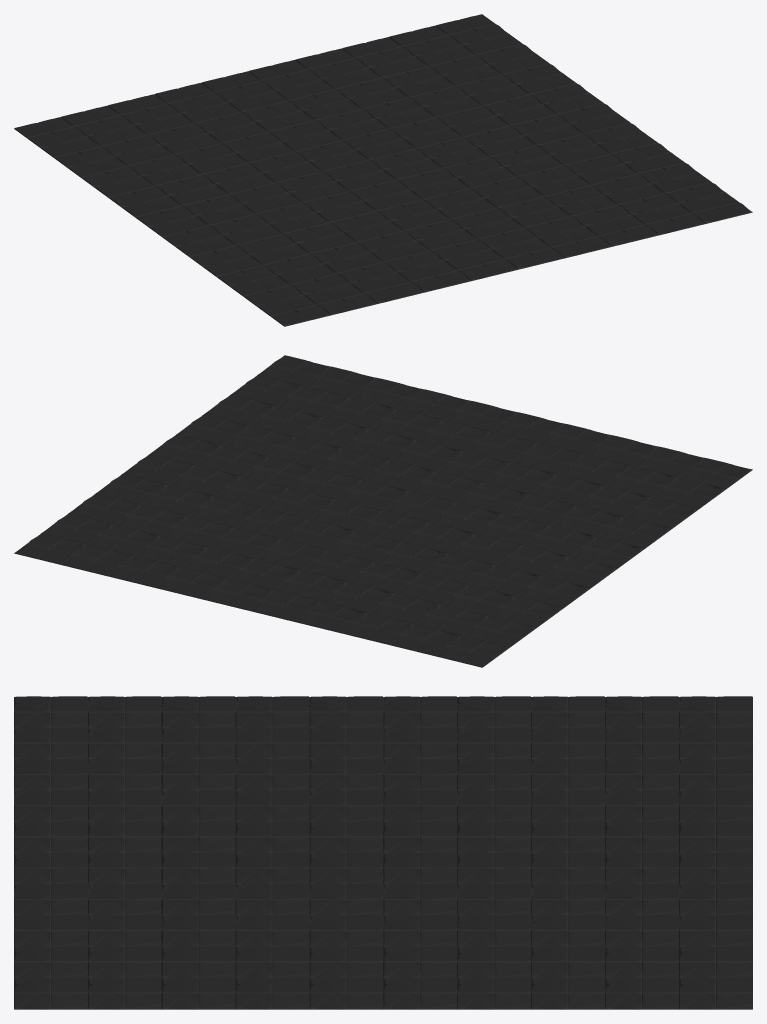
File: test_room_5x5.obj
3 renders of one model, top to bottom at view 1: azimuth 30°, elevation 25°; view 2: azimuth 150°, elevation 25°; view 3: azimuth 270°, elevation 25°, orthographic. The views are drawn at different scales.
Parts seen in each view (by area): view 1: floor_tile_set.026; view 2: floor_tile_set.026; view 3: floor_tile_set.026.
Part boxes in pixels (bbox=[...]): floor_tile_set.026: bbox=[14, 14, 752, 326]; floor_tile_set.026: bbox=[14, 355, 752, 667]; floor_tile_set.026: bbox=[14, 696, 752, 1009].
Bounding box in the file's own units: 25 × 0.0741 × 25.
